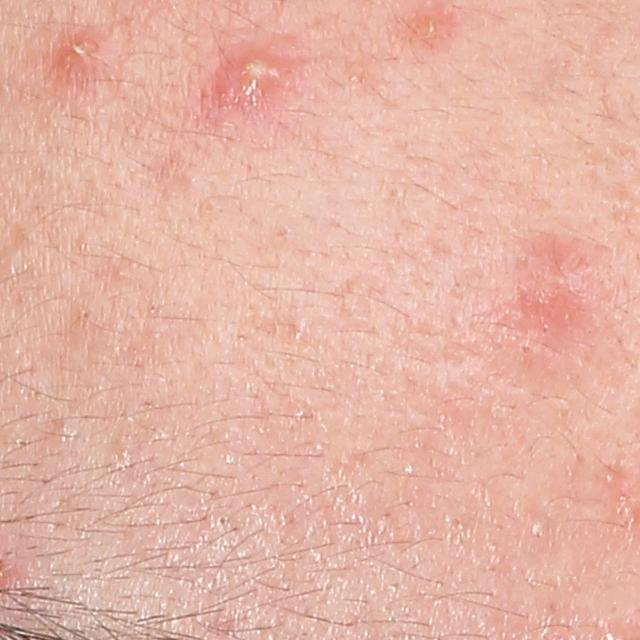pustule: (207, 50, 288, 107), (62, 32, 115, 76)
